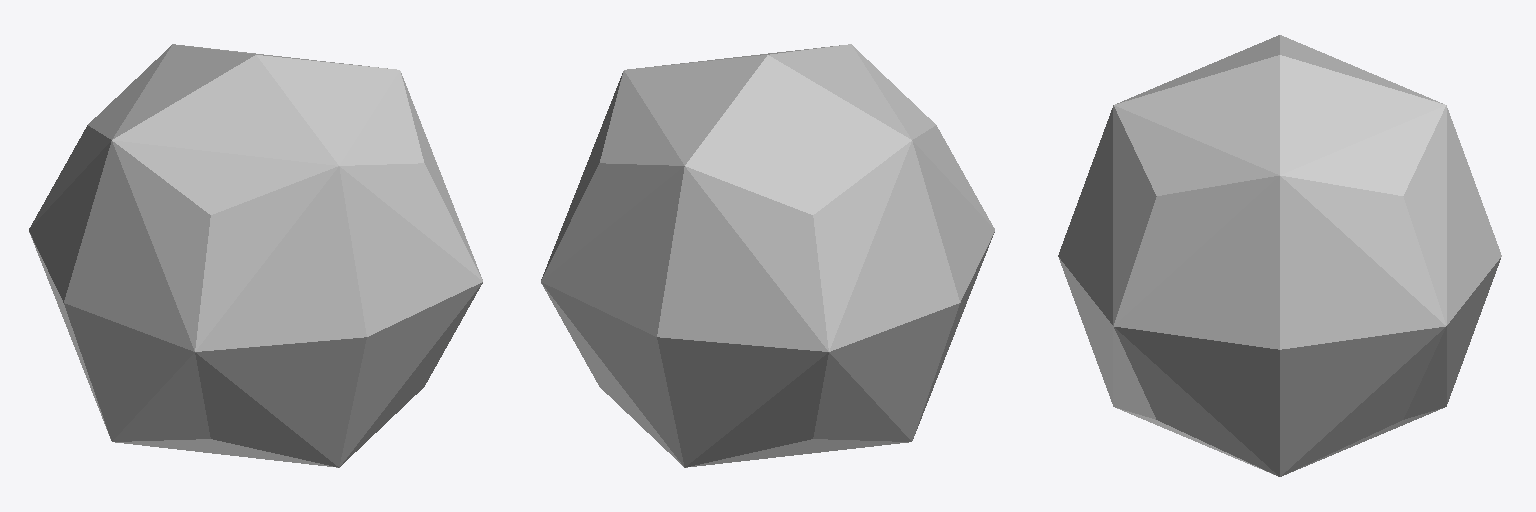
The model's file is pellet.obj.
3 renders of one model, left to right at view 1: azimuth 30°, elevation 25°; view 2: azimuth 150°, elevation 25°; view 3: azimuth 270°, elevation 25°, orthographic.
Size of the model in its own units: 2 by 2 by 2.